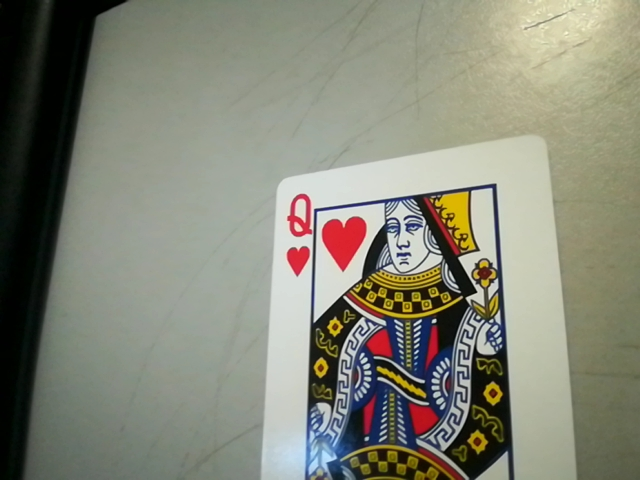hx q: (273, 190, 319, 278)
